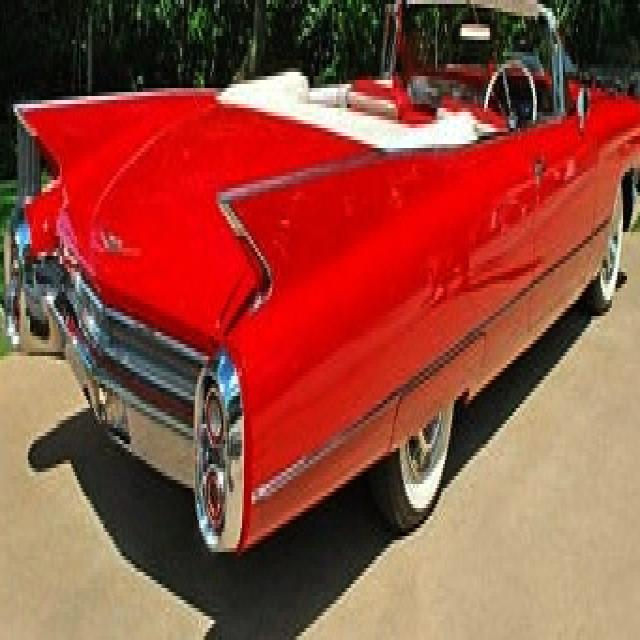red: (18, 3, 638, 493)
